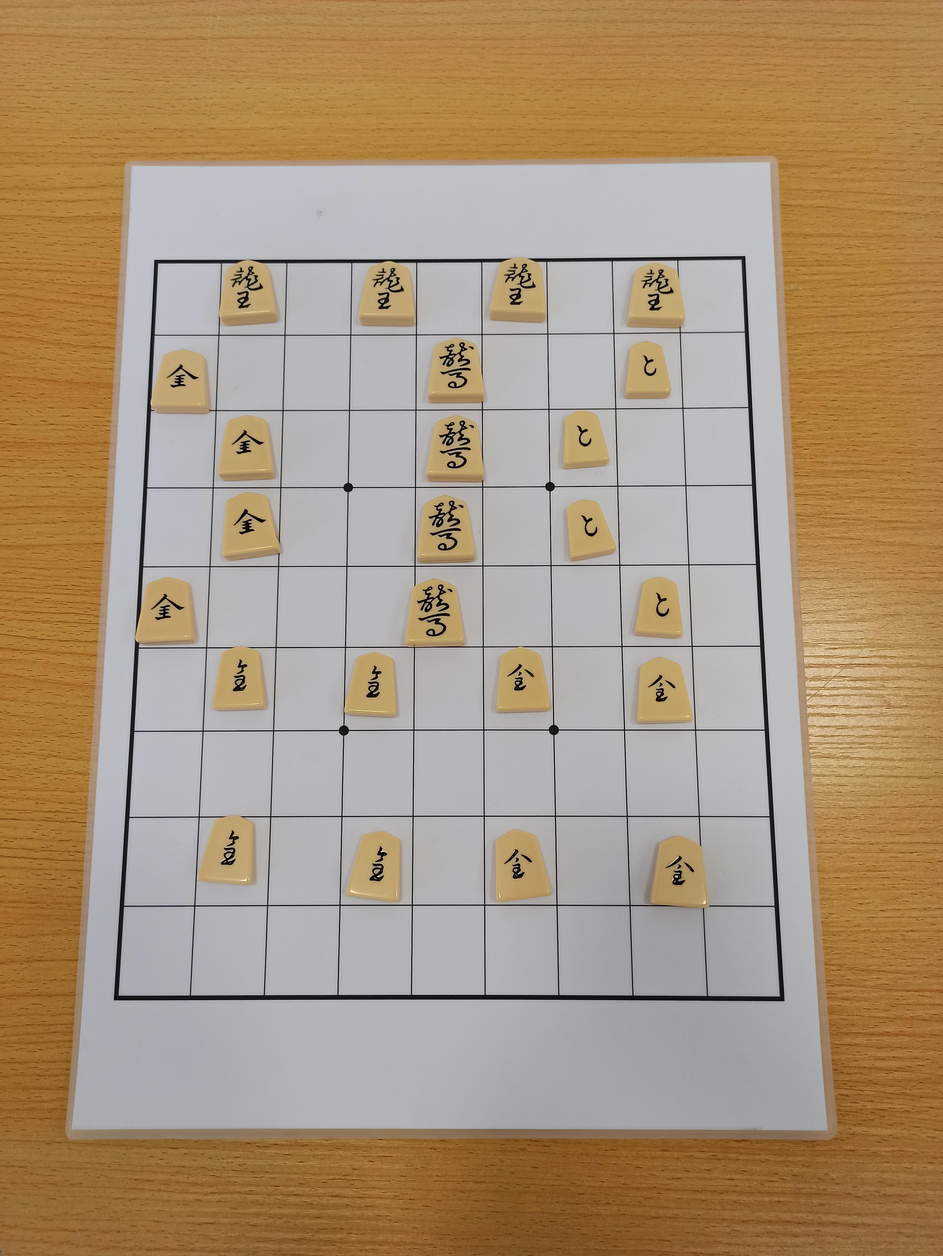board: (114, 259, 782, 1001)
